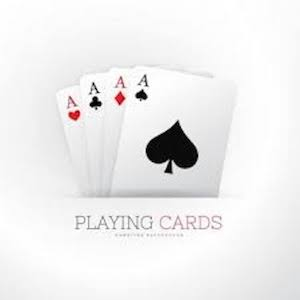AceOfClubs: (83, 71, 113, 200)
AceOfDiamonds: (106, 63, 135, 180)
AceOfHearts: (55, 87, 89, 189)
AceOfSpades: (130, 63, 238, 200)
